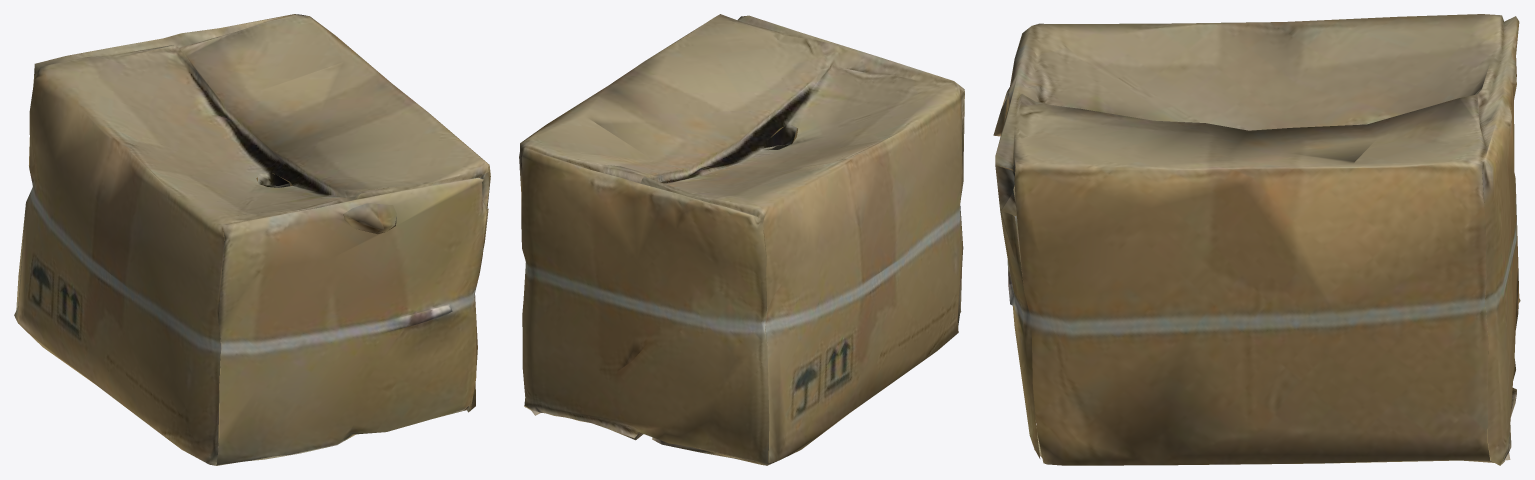
File: ph_cardboard_box_01.glb
3 renders of one model, left to right at view 1: azimuth 30°, elevation 25°; view 2: azimuth 150°, elevation 25°; view 3: azimuth 270°, elevation 25°, orthographic. The views are drawn at different scales.
Parts seen in each view (by area): view 1: cardboard_box_01; view 2: cardboard_box_01; view 3: cardboard_box_01.
Part boxes in pixels (x1,y1,x2,y2): cardboard_box_01: (14,14,490,465); cardboard_box_01: (519,14,964,465); cardboard_box_01: (993,14,1520,465).
Size of the model in its own units: 0.3869 by 0.3399 by 0.5156.
1 material, 1 textured.
